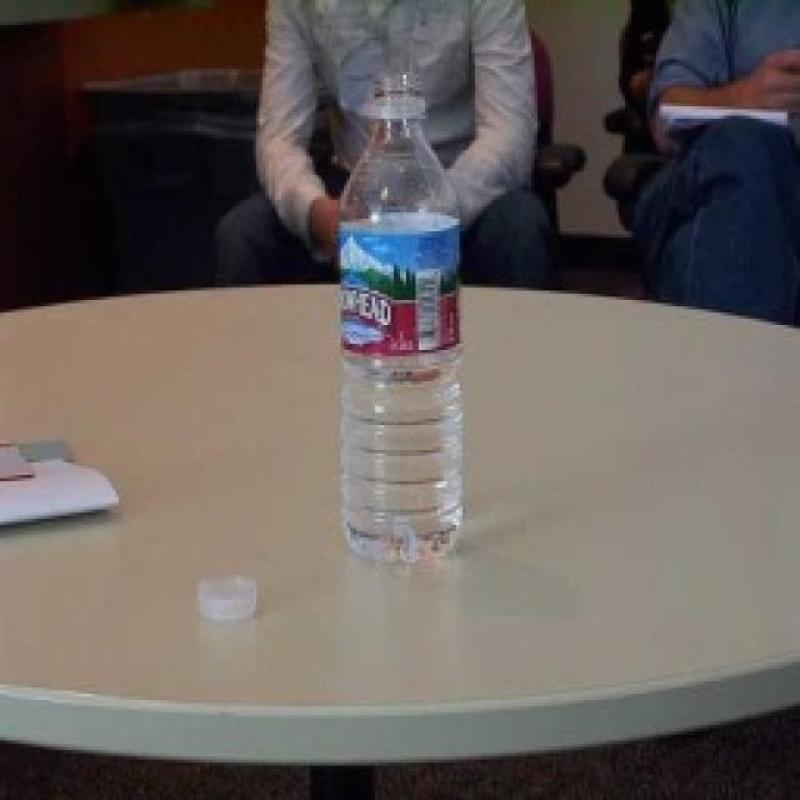botella: (332, 76, 470, 564)
